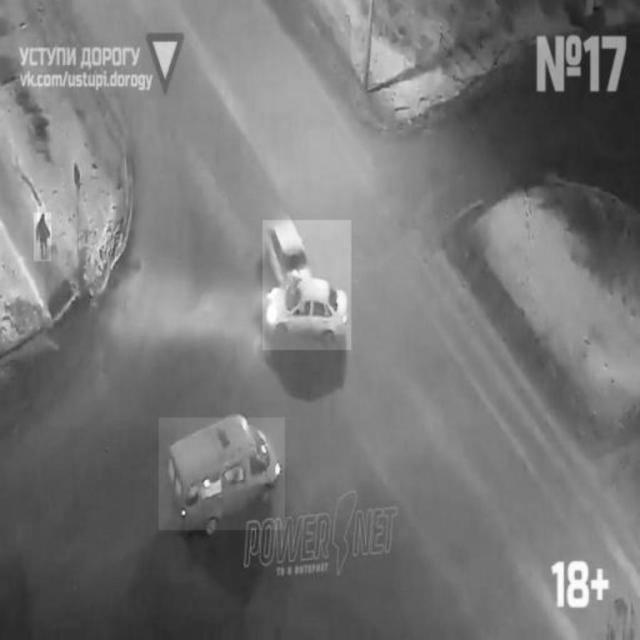accident: (263, 220, 351, 351)
person: (34, 213, 51, 261)
vehicle: (159, 417, 285, 529)
